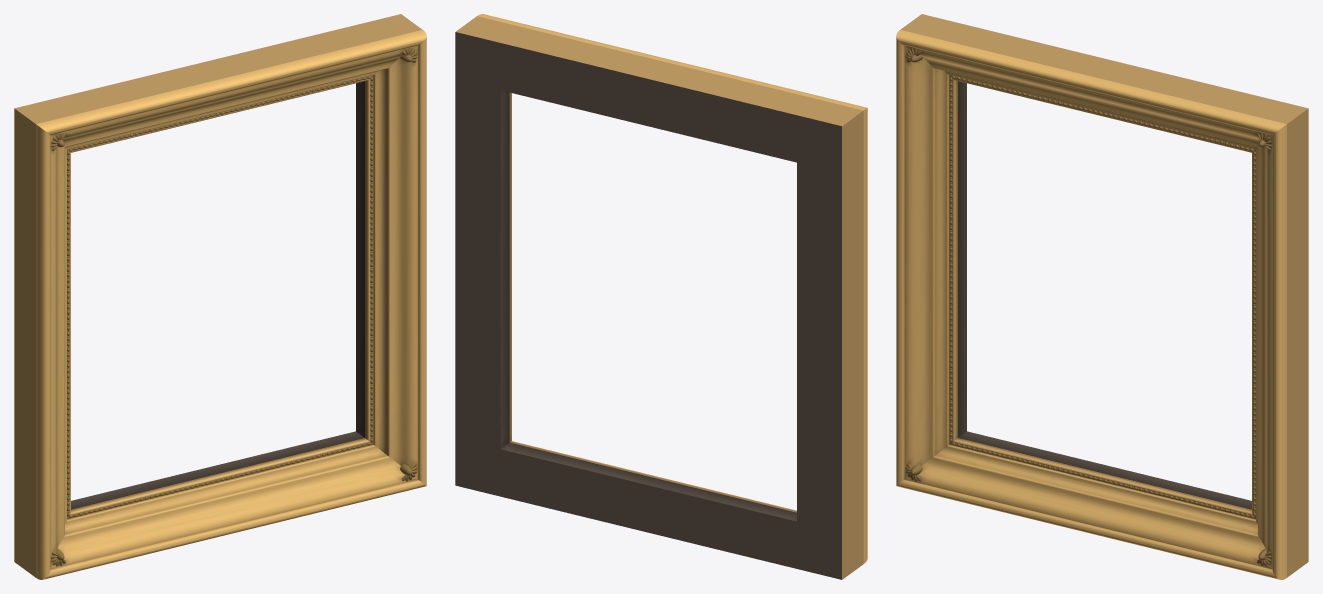
File: 15-russkaya-venera.glb
3 renders of one model, left to right at view 1: azimuth 30°, elevation 25°; view 2: azimuth 150°, elevation 25°; view 3: azimuth 330°, elevation 25°, orthographic.
Parts seen in each view (by area): view 1: Frame; view 2: Frame; view 3: Frame.
Part boxes in pixels (bbox=[...]): Frame: bbox=[14, 14, 426, 579]; Frame: bbox=[455, 14, 867, 579]; Frame: bbox=[896, 14, 1308, 579].
Bounding box in the file's own units: 1.11 × 1.24 × 0.1461.
